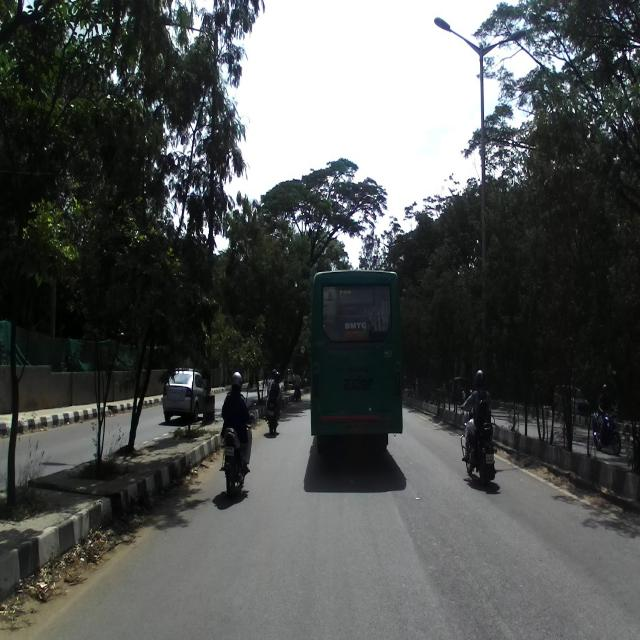bus: (308, 267, 404, 458)
motorcycle: (218, 415, 252, 500)
motorcycle_RoyalEnfield: (460, 388, 498, 485)
